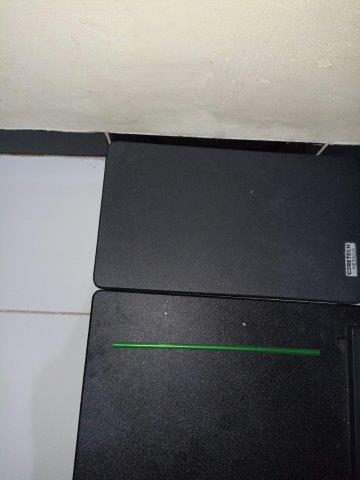sedotan: (113, 341, 320, 355)
